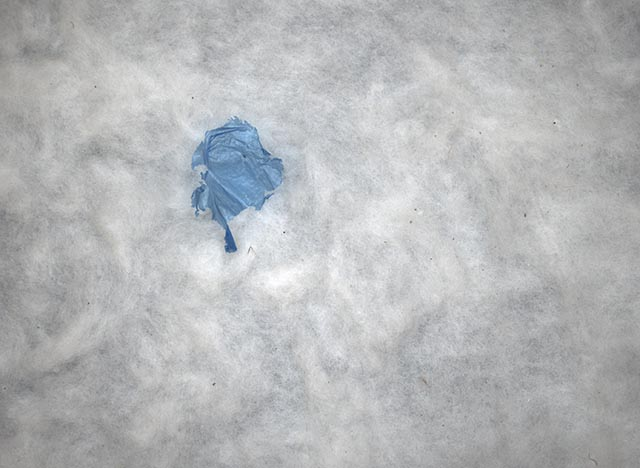plastic film: (190, 115, 284, 254)
